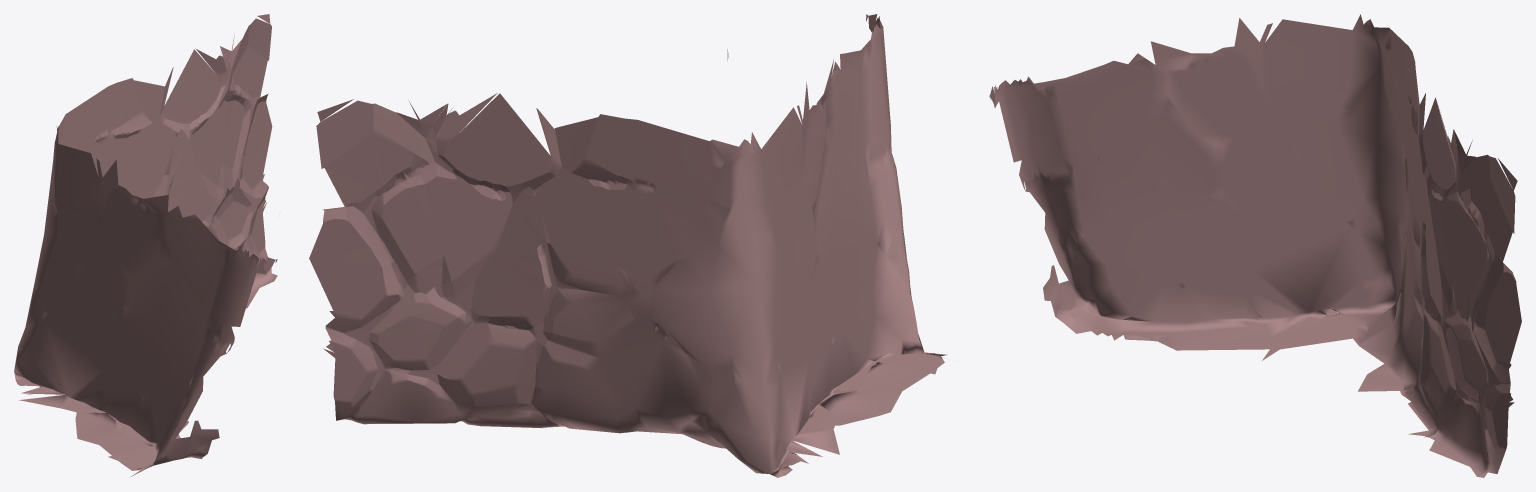
Rendered from canyon.fbx_PolyShape__3__004LODs.fbx.
The picture shows the model from 3 angles, left to right: view 1: azimuth 30°, elevation 25°; view 2: azimuth 150°, elevation 25°; view 3: azimuth 270°, elevation 25°; orthographic projection. The views are drawn at different scales.
Parts seen in each view (by area): view 1: PolyShape (3).004_LOD0; view 2: PolyShape (3).004_LOD0; view 3: PolyShape (3).004_LOD0.
Boxes of the visible parts, x1,y1,x2,y2 form: PolyShape (3).004_LOD0: (14,14,277,476); PolyShape (3).004_LOD0: (309,14,947,477); PolyShape (3).004_LOD0: (989,14,1521,477).
Size of what is drawn, in the model's own units: 4613 by 3544 by 5281.
